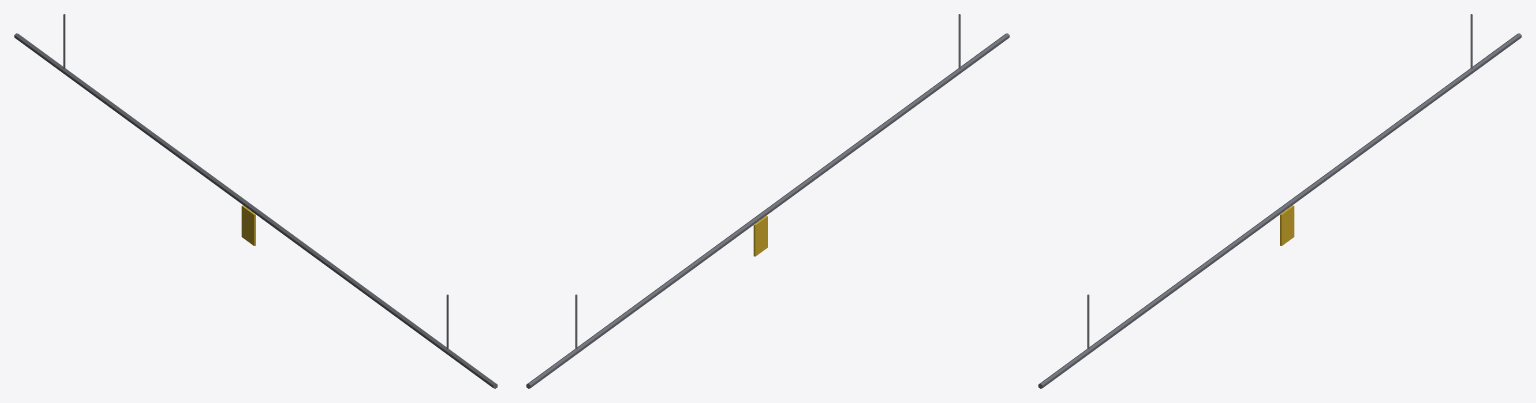
The model's file is zip_rail.glb.
The picture shows the model from 3 angles, left to right: view 1: azimuth 30°, elevation 25°; view 2: azimuth 150°, elevation 25°; view 3: azimuth 330°, elevation 25°; orthographic projection.
Visible parts, largest first — view 1: zip_rail; view 2: zip_rail; view 3: zip_rail.
Part boxes in pixels (left/top/right/bottom): zip_rail: left=14, top=14, right=497, bottom=388; zip_rail: left=526, top=14, right=1009, bottom=388; zip_rail: left=1038, top=14, right=1521, bottom=388.
Size of the model in its own units: 0.052 by 1.06 by 10.
